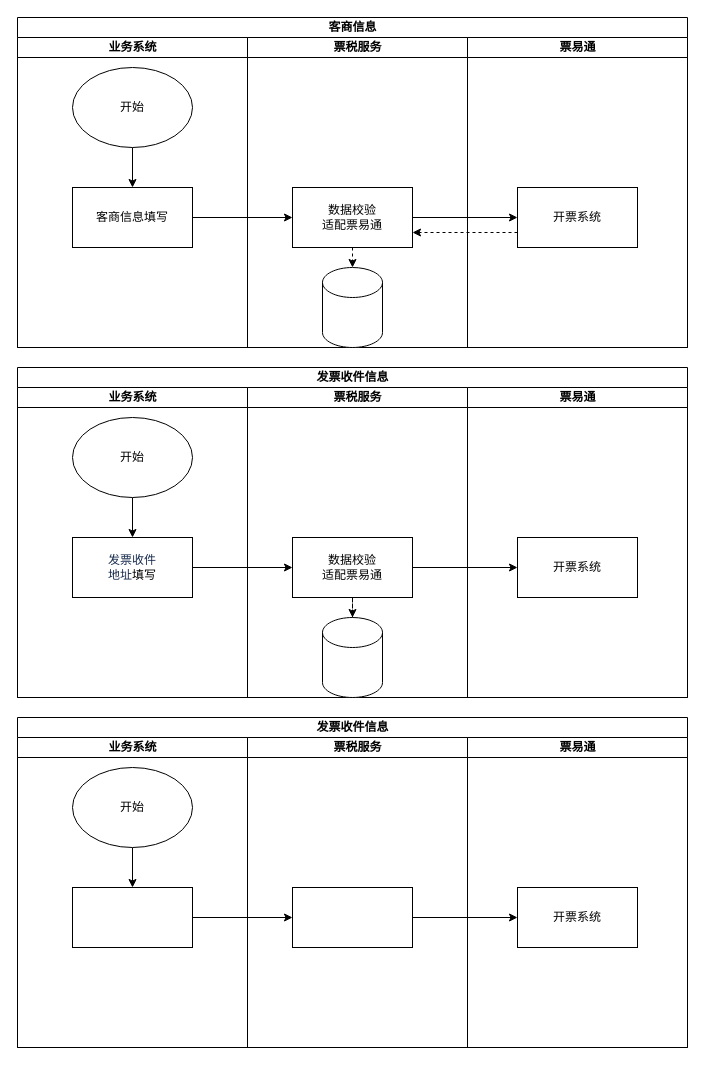
Image size: 705x1065. Some labels were removed from this diagram. Here are the shapes that lost their labels. From the top down, the centre of each, then its label:
At point (132, 917): "查看发票信息".
At point (352, 917): "查看物流轨迹".
